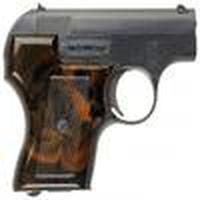gun: (1, 5, 197, 200)
